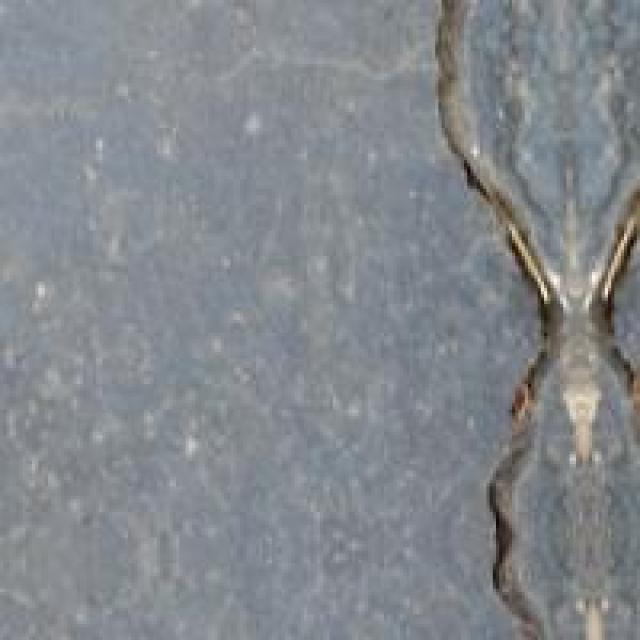Crack: (378, 0, 636, 637)
